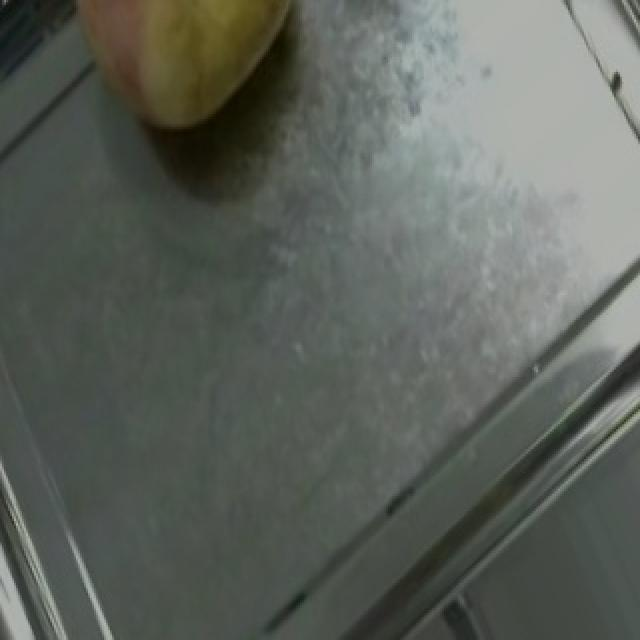Fruit: (34, 0, 326, 164)
